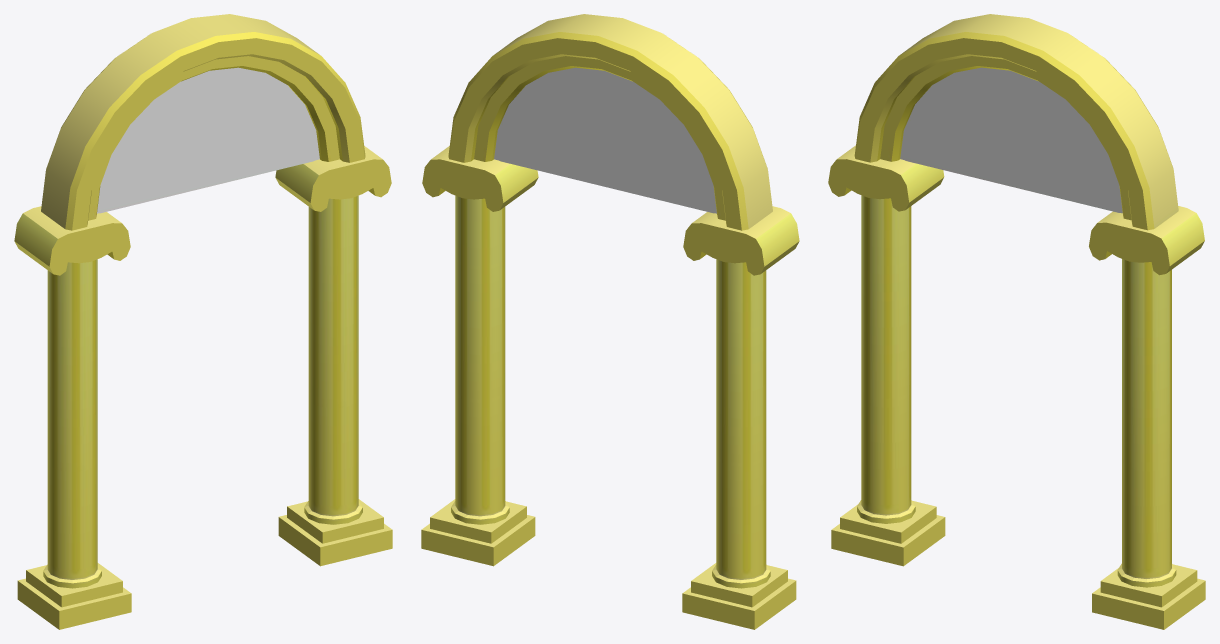
File: Door_1.FBX
3 views of the same model, side by side, from view 1: azimuth 30°, elevation 25°; view 2: azimuth 150°, elevation 25°; view 3: azimuth 330°, elevation 25° (orthographic).
Visible parts, largest first — view 1: Door_1; view 2: Door_1; view 3: Door_1.
Part boxes in pixels (box(x1,y1,x2,y2)): Door_1: box(14, 14, 392, 629); Door_1: box(421, 14, 799, 629); Door_1: box(828, 14, 1205, 629).
Size of the model in its own units: 1.89 by 2.89 by 0.4.
